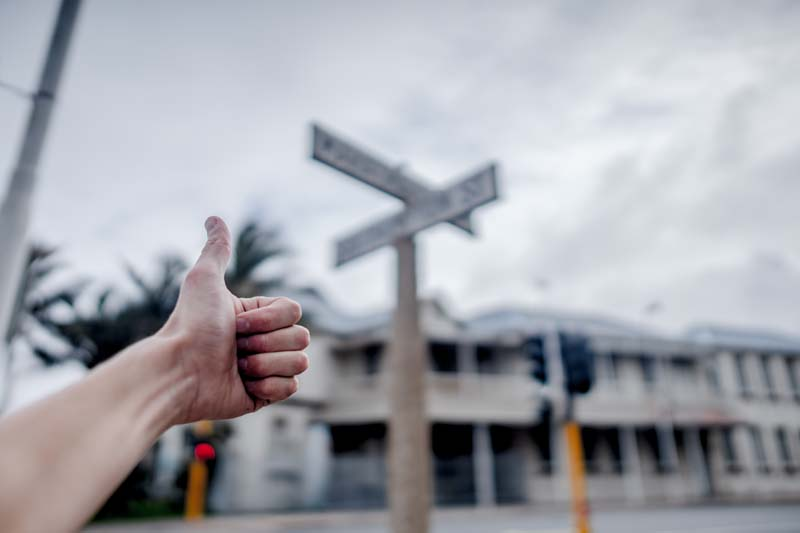Thumbs Up: (150, 208, 324, 448)
